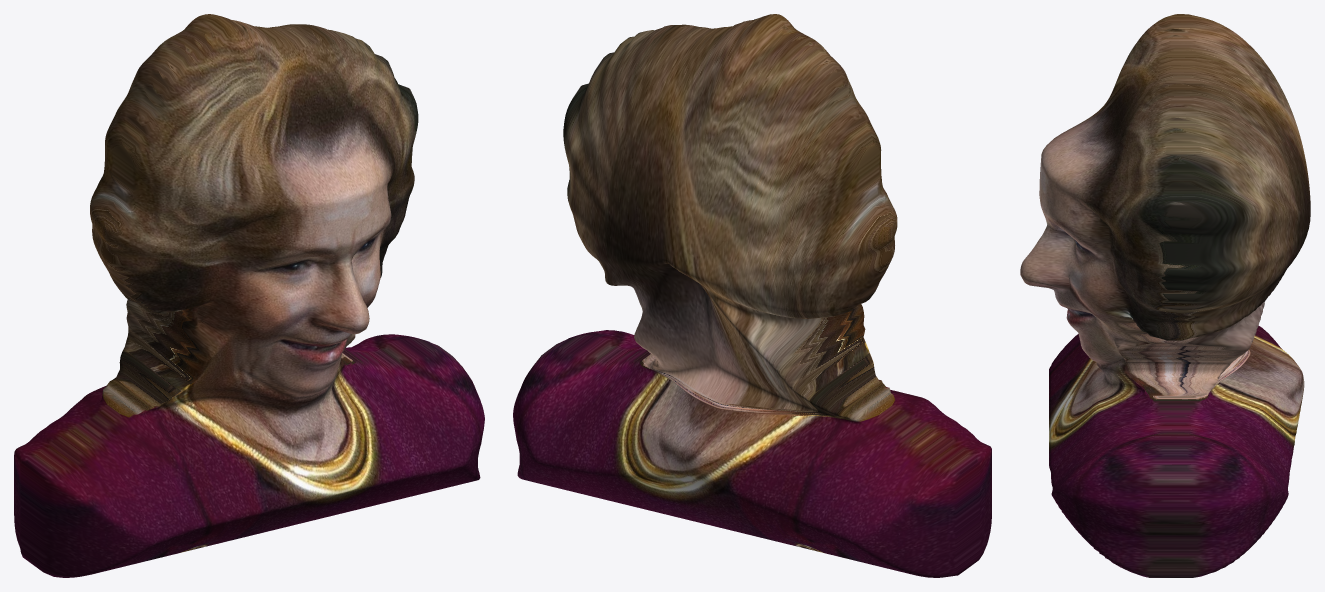
File: queen_sonja_head.glb
3 views of the same model, side by side, from view 1: azimuth 30°, elevation 25°; view 2: azimuth 150°, elevation 25°; view 3: azimuth 270°, elevation 25° (orthographic). The views are drawn at different scales.
Visible parts, largest first — view 1: QueenSonja_Head; view 2: QueenSonja_Head; view 3: QueenSonja_Head.
Boxes of the visible parts, x1=… form: QueenSonja_Head: x1=14, y1=14, x2=484, y2=577; QueenSonja_Head: x1=513, y1=14, x2=991, y2=577; QueenSonja_Head: x1=1020, y1=14, x2=1310, y2=577.
Size of the model in its own units: 0.3168 by 0.3504 by 0.2014.
1 material, 1 textured.
